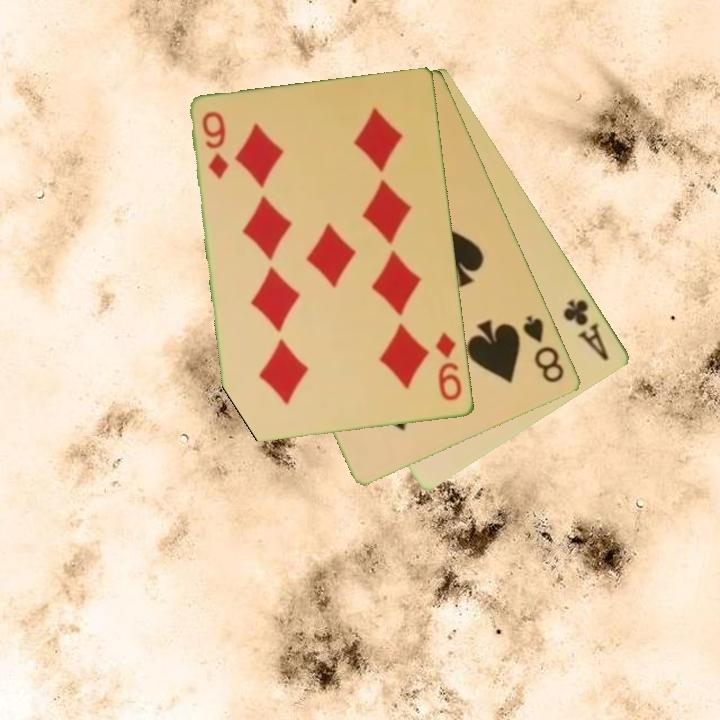8s: (520, 312, 568, 386)
9d: (432, 329, 465, 404), (199, 108, 232, 182)
Ac: (560, 295, 612, 364)
